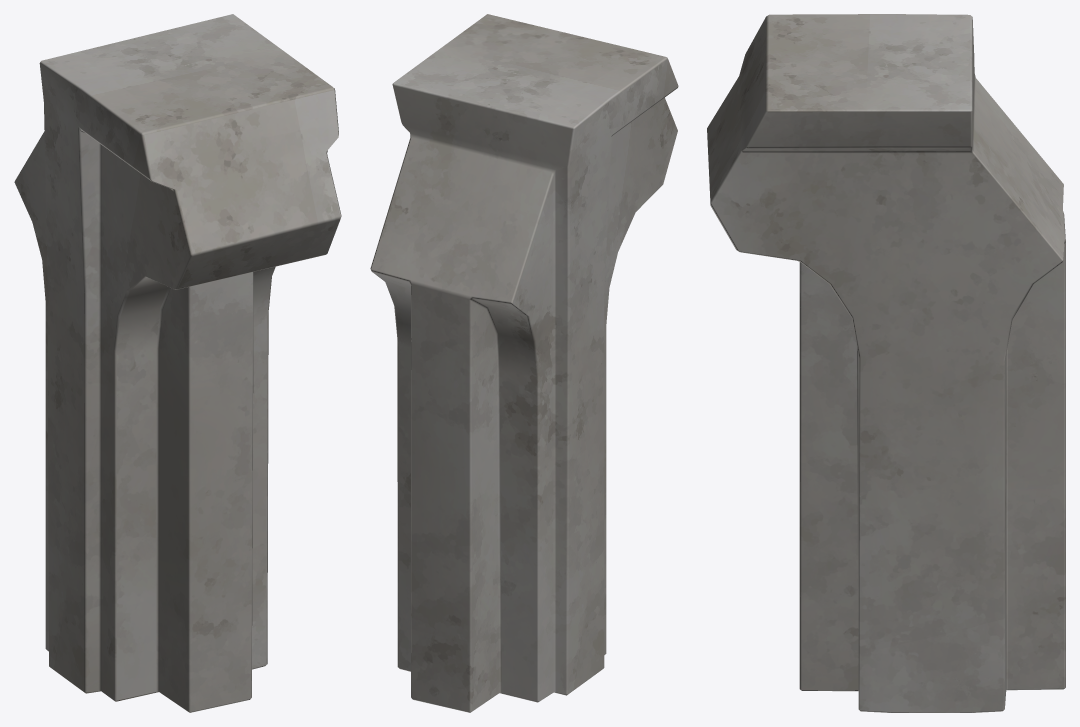
The model's file is SM_Pillar_Bridge_02.fbx.
3 views of the same model, side by side, from view 1: azimuth 30°, elevation 25°; view 2: azimuth 150°, elevation 25°; view 3: azimuth 270°, elevation 25° (orthographic). The views are drawn at different scales.
Visible parts, largest first — view 1: SM_Pillar_Bridge_02_LOD0; view 2: SM_Pillar_Bridge_02_LOD0; view 3: SM_Pillar_Bridge_02_LOD0.
Part boxes in pixels (x1,y1,x2,y2): SM_Pillar_Bridge_02_LOD0: (14,14,341,712); SM_Pillar_Bridge_02_LOD0: (370,14,678,712); SM_Pillar_Bridge_02_LOD0: (707,14,1065,712).
Size of the model in its own units: 61.31 by 96.58 by 183.
1 material, 1 textured.
